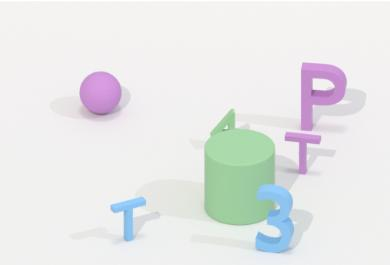0-KhoiTru: (198, 128, 278, 226)
0-Tron: (75, 68, 127, 121)
3: (252, 181, 297, 258)
P: (297, 57, 350, 134)
T: (280, 126, 327, 182), (106, 190, 149, 246)
